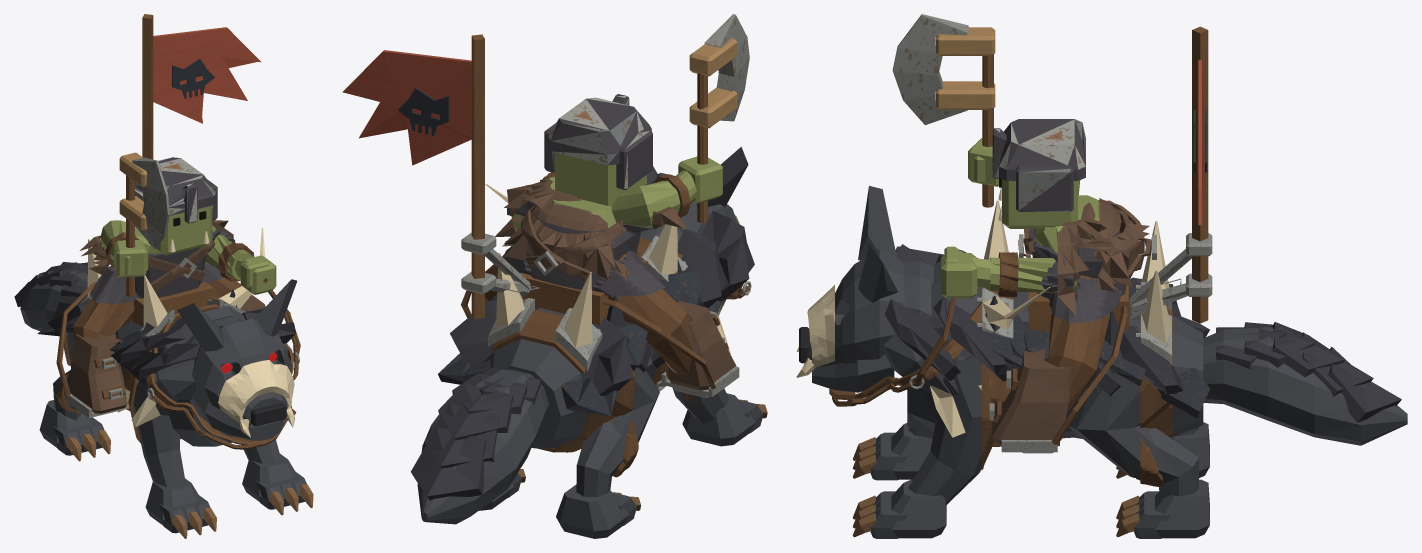
Rendered from host_47.glb.
3 views of the same model, side by side, from view 1: azimuth 30°, elevation 25°; view 2: azimuth 150°, elevation 25°; view 3: azimuth 270°, elevation 25° (orthographic). The views are drawn at different scales.
Parts seen in each view (by area): view 1: Wolf — continuous source anatomy and real tail root, Banner — actual broad ragged red cloth, Rider — continuous source torso, arms and seated hip transit, Source wolf mane — joined broad pointed neck and dorsal laye, Rider — RIGHT source boot, Rider — real hollow fitted leather vest, Wolf armor — fitted source brow and skull mask, Rider helmet continuous fitted roof, rectangular brow and si, Rider weapon — true broad crescent axe, Banner — actual rear upright wood pole, Head — continuous source square skull under helmet, Rider hand — LEFT connected source fist and wrist (+22 smaller); view 2: Wolf — continuous source anatomy and real tail root, Source wolf mane — joined broad pointed neck and dorsal laye, Banner — actual broad ragged red cloth, Rider helmet continuous fitted roof, rectangular brow and si, Rider — continuous source torso, arms and seated hip transit, Source rider mantle — joined ragged shoulder and rear cloth, Rider — real hollow fitted leather vest, Source last howl — one complete source armor support course , Banner — actual rear upright wood pole, Source last howl — broad layered pointed tail fur 4, Rider — RIGHT source boot, Head — continuous source square skull under helmet (+28 smaller); view 3: Wolf — continuous source anatomy and real tail root, Source wolf mane — joined broad pointed neck and dorsal laye, Rider helmet continuous fitted roof, rectangular brow and si, Rider — continuous source torso, arms and seated hip transit, Rider — LEFT source boot, Source rider mantle — joined ragged shoulder and rear cloth, Rider weapon — true broad crescent axe, Source last howl — one complete source armor support course  (×2), Banner — actual rear upright wood pole, Rider — real hollow fitted leather vest, Rider hand — LEFT connected source fist and wrist, Source last howl — broad layered pointed tail fur 4 (+26 smaller).
Boxes of the visible parts, box(x1,y1,x2,y2) form: Wolf — continuous source anatomy and real tail root: box(20, 267, 306, 533); Banner — actual broad ragged red cloth: box(153, 27, 260, 123); Rider — continuous source torso, arms and seated hip transit: box(73, 220, 253, 341); Source wolf mane — joined broad pointed neck and dorsal laye: box(47, 302, 295, 384); Rider — RIGHT source boot: box(70, 334, 127, 413); Rider — real hollow fitted leather vest: box(90, 226, 235, 304); Wolf armor — fitted source brow and skull mask: box(218, 360, 294, 423); Rider helmet continuous fitted roof, rectangular brow and si: box(135, 157, 217, 223); Rider weapon — true broad crescent axe: box(132, 157, 169, 248); Banner — actual rear upright wood pole: box(142, 14, 153, 159); Head — continuous source square skull under helmet: box(148, 205, 212, 255); Rider hand — LEFT connected source fist and wrist: box(235, 255, 276, 294); Wolf — continuous source anatomy and real tail root: box(417, 146, 763, 538); Source wolf mane — joined broad pointed neck and dorsal laye: box(450, 210, 754, 395); Banner — actual broad ragged red cloth: box(342, 50, 471, 165); Rider helmet continuous fitted roof, rectangular brow and si: box(544, 94, 652, 190); Rider — continuous source torso, arms and seated hip transit: box(485, 177, 692, 374); Source rider mantle — joined ragged shoulder and rear cloth: box(495, 179, 687, 280); Rider — real hollow fitted leather vest: box(502, 201, 665, 296); Source last howl — one complete source armor support course : box(490, 309, 638, 477); Banner — actual rear upright wood pole: box(471, 34, 484, 318); Source last howl — broad layered pointed tail fur 4: box(411, 427, 486, 500); Rider — RIGHT source boot: box(665, 301, 736, 390); Head — continuous source square skull under helmet: box(555, 152, 646, 206); Wolf — continuous source anatomy and real tail root: box(809, 185, 1407, 538); Source wolf mane — joined broad pointed neck and dorsal laye: box(884, 244, 1183, 395); Rider helmet continuous fitted roof, rectangular brow and si: box(992, 119, 1085, 211); Rider — continuous source torso, arms and seated hip transit: box(989, 180, 1109, 414); Rider — LEFT source boot: box(992, 349, 1070, 444); Source rider mantle — joined ragged shoulder and rear cloth: box(1057, 198, 1149, 315); Rider weapon — true broad crescent axe: box(892, 14, 968, 125); Source last howl — one complete source armor support course  (×2): box(981, 288, 1172, 486); Banner — actual rear upright wood pole: box(1192, 26, 1208, 323); Rider — real hollow fitted leather vest: box(1028, 229, 1125, 323); Rider hand — LEFT connected source fist and wrist: box(941, 246, 990, 298); Source last howl — broad layered pointed tail fur 4: box(1328, 347, 1401, 422).
Bounding box in the file's own units: 2.7 × 4.02 × 4.52.
Materials: 24 (21 with a texture image).
